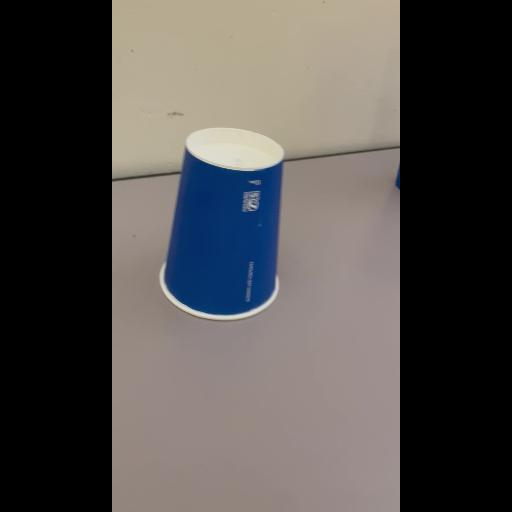lp_paper_cup: (154, 126, 298, 318)
